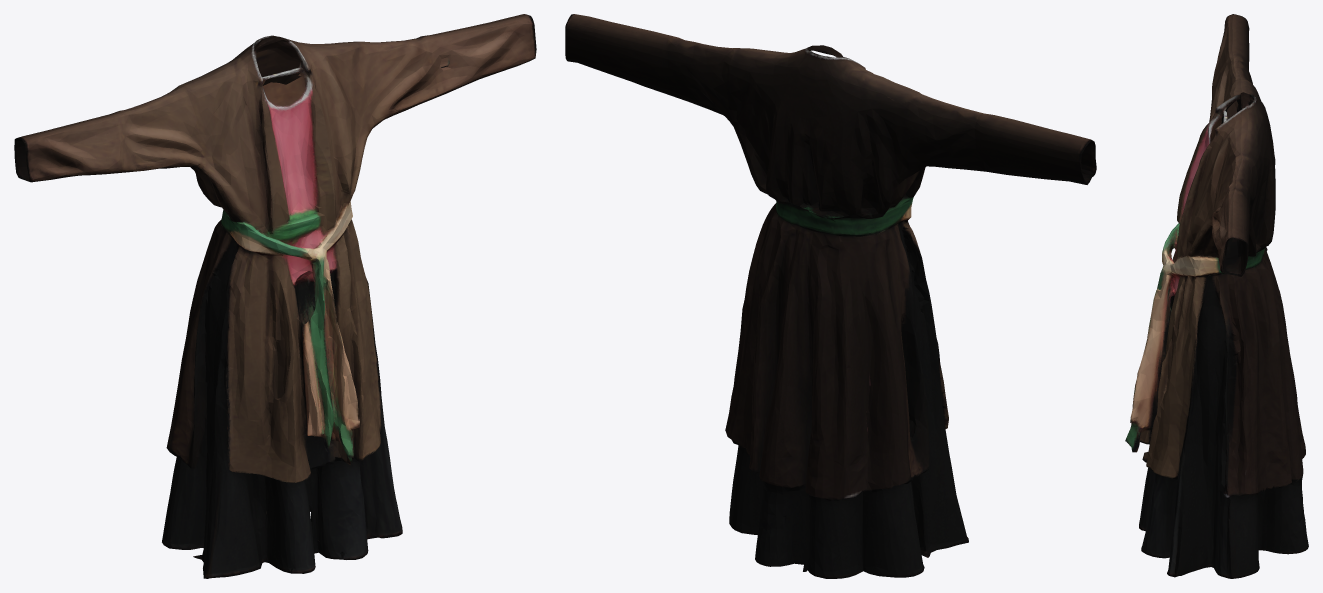
File: tuthan.glb
The picture shows the model from 3 angles, left to right: view 1: azimuth 30°, elevation 25°; view 2: azimuth 150°, elevation 25°; view 3: azimuth 270°, elevation 25°; orthographic projection. The views are drawn at different scales.
Visible parts, largest first — view 1: world; view 2: world; view 3: world.
Part boxes in pixels (x1,y1,x2,y2): world: [14, 14, 536, 578]; world: [565, 14, 1096, 578]; world: [1125, 14, 1308, 578].
Size of the model in its own units: 0.997 by 0.9262 by 0.3447.
Materials: 1 (1 with a texture image).
